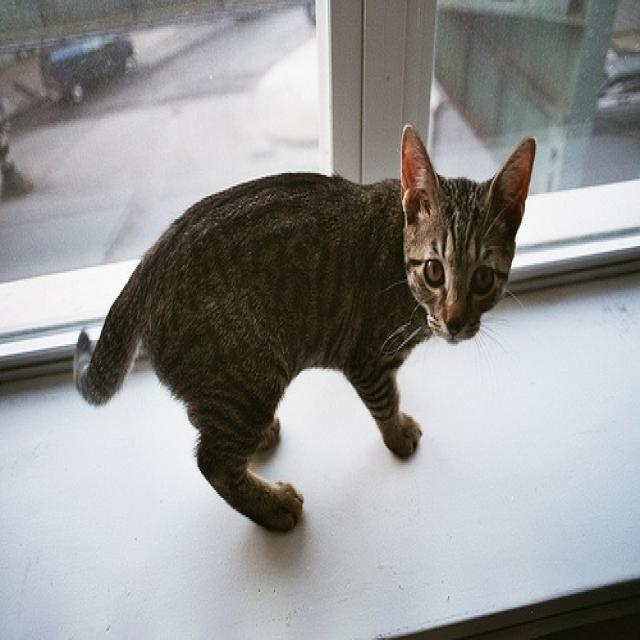cat: (73, 124, 539, 531)
